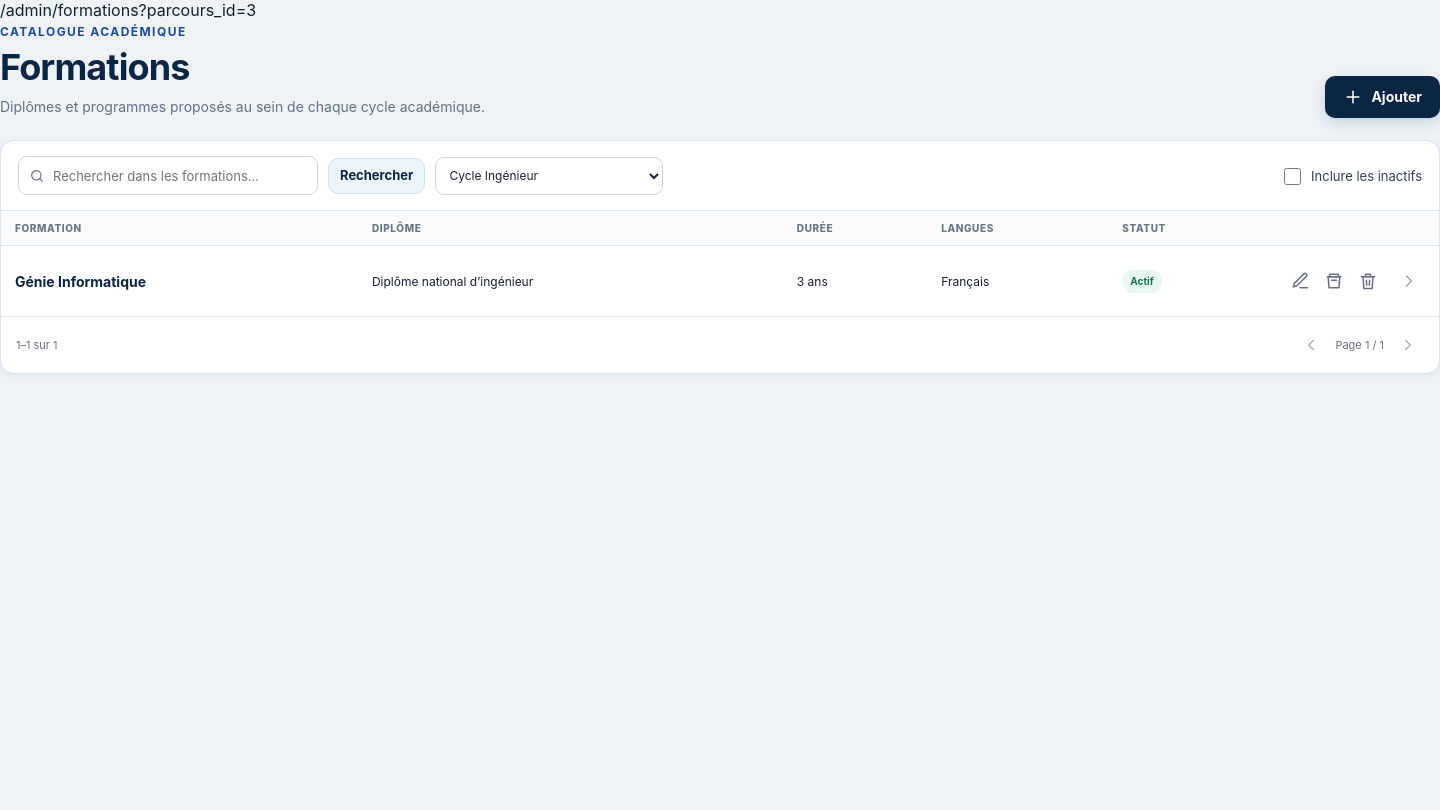
Test: CrudPage hierarchical navigation › keeps formation actions independent from row navigation
Click the button named "Modifier Génie Informatique".
click(1300, 281)  # box x1=1283 y1=264 x2=1317 y2=298
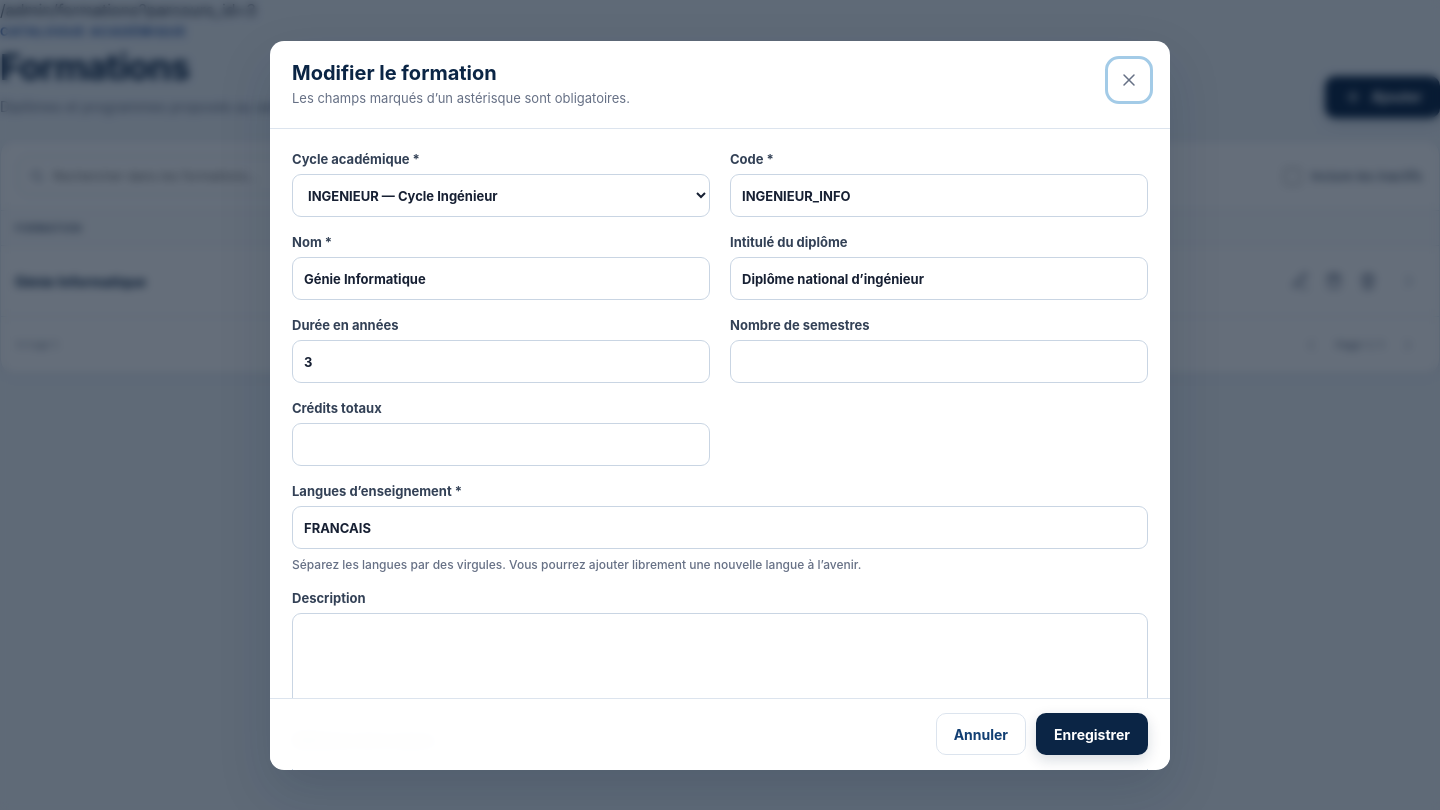
Check: the text named "URL courante" reads "/admin/formations?parcours_id=3", box x1=0 y1=0 x2=256 y2=20
Click the button named "Fermer".
click(1129, 80)  # box x1=1110 y1=60 x2=1148 y2=98
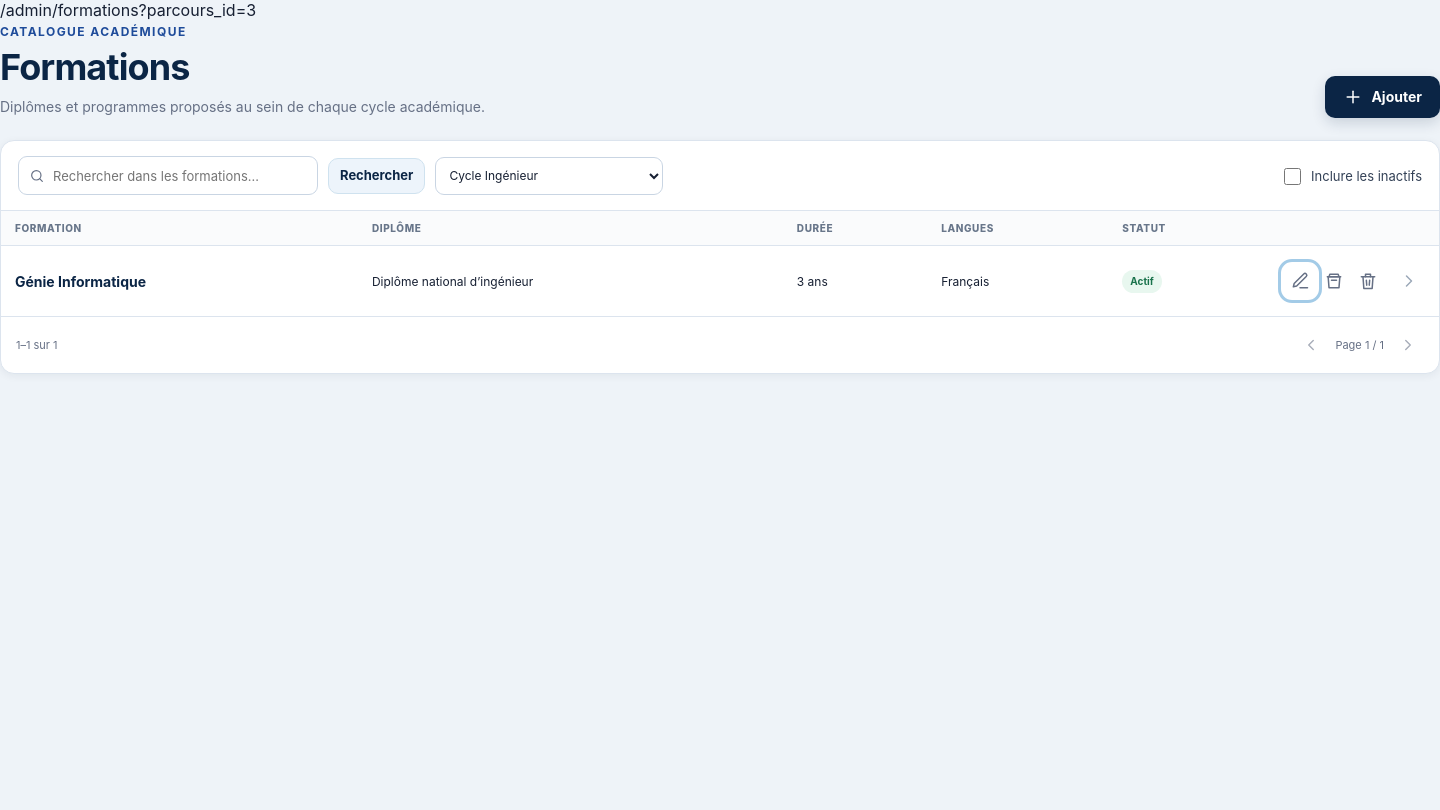
Click the button named "Supprimer Génie Informatique".
click(1368, 281)  # box x1=1351 y1=264 x2=1385 y2=298
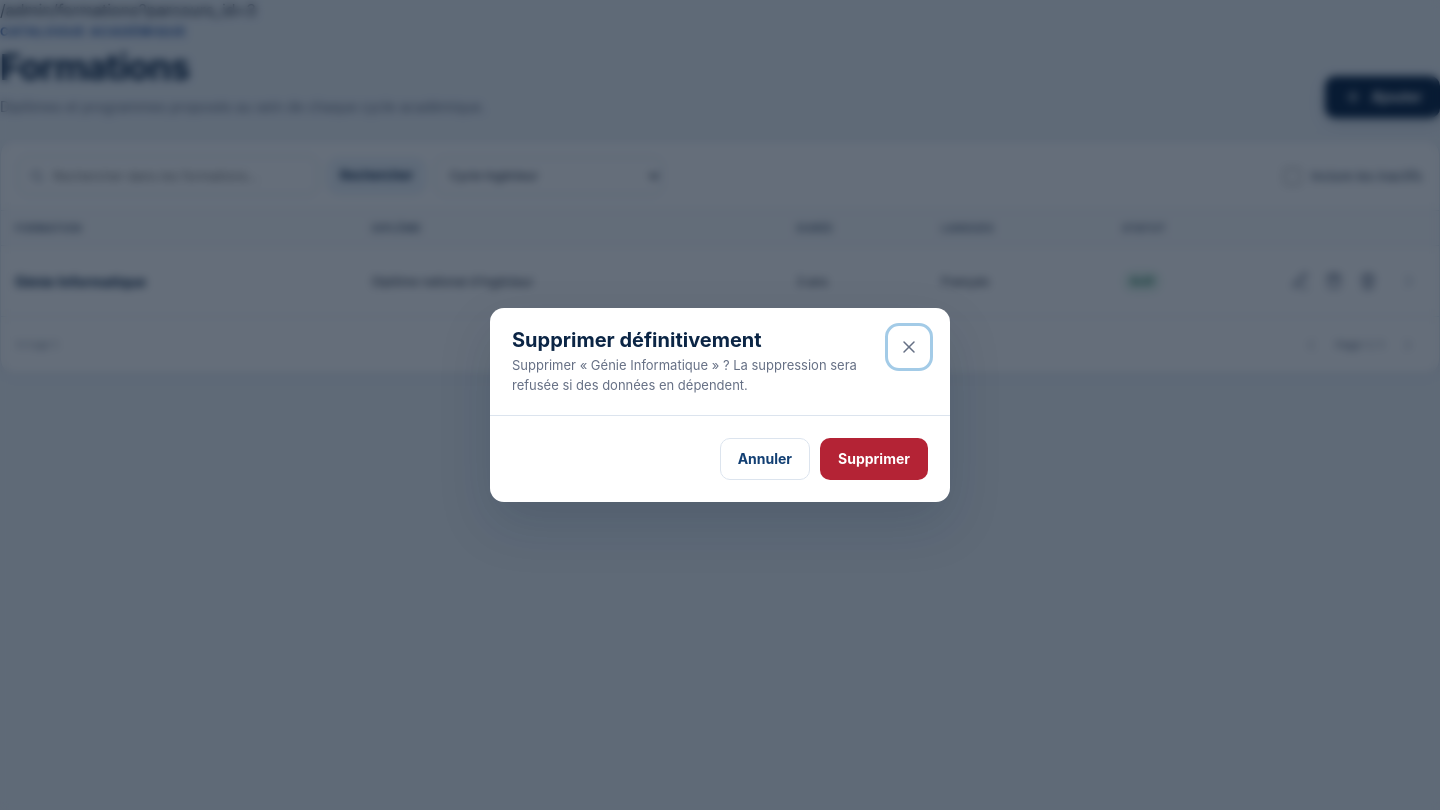
Check: the text named "URL courante" reads "/admin/formations?parcours_id=3", box x1=0 y1=0 x2=256 y2=20
Check: the dialog "Supprimer définitivement" is shown, box x1=490 y1=308 x2=950 y2=502
